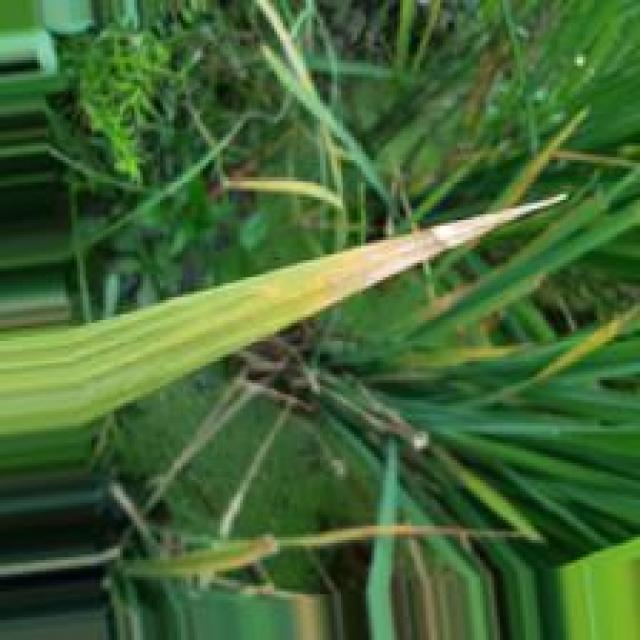Leaf_Scald: (343, 193, 577, 299)
